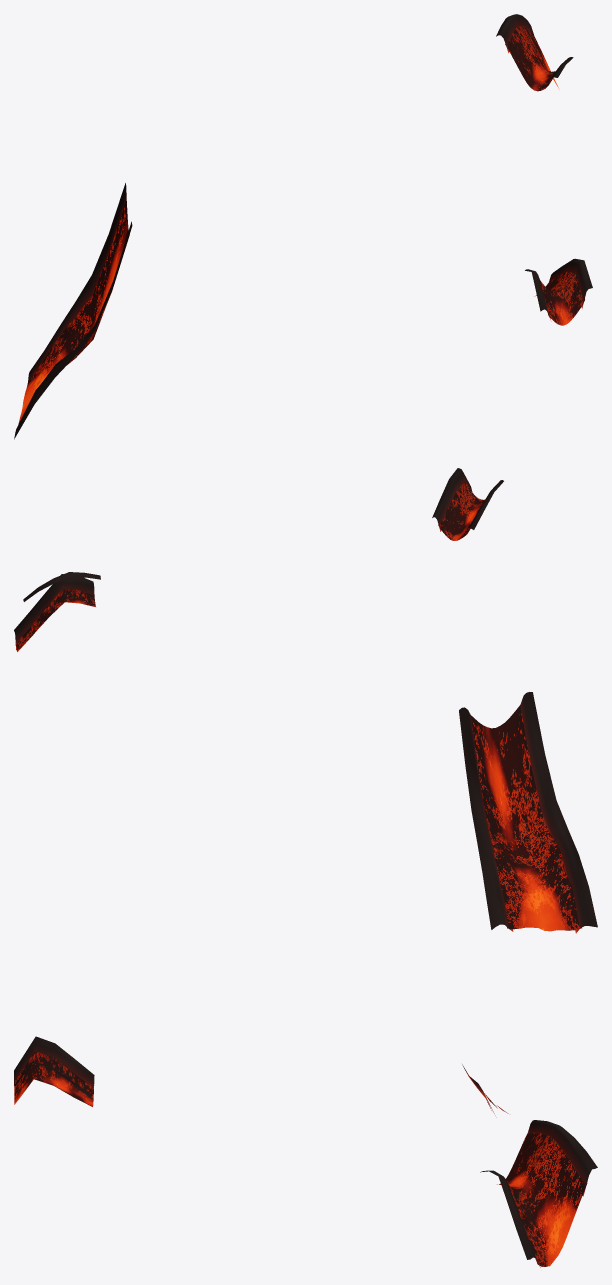
Rendered from lava_seg_2.glb.
3 renders of one model, top to bottom at view 1: azimuth 30°, elevation 25°; view 2: azimuth 150°, elevation 25°; view 3: azimuth 270°, elevation 25°, orthographic. The views are drawn at different scales.
Parts seen in each view (by area): view 1: seg; view 2: seg; view 3: seg.
Part boxes in pixels (left/top/right/bottom): seg: left=14, top=14, right=592, bottom=439; seg: left=14, top=468, right=597, bottom=933; seg: left=14, top=1036, right=597, bottom=1267.
Size of the model in its own units: 48.29 by 21.05 by 37.52.
